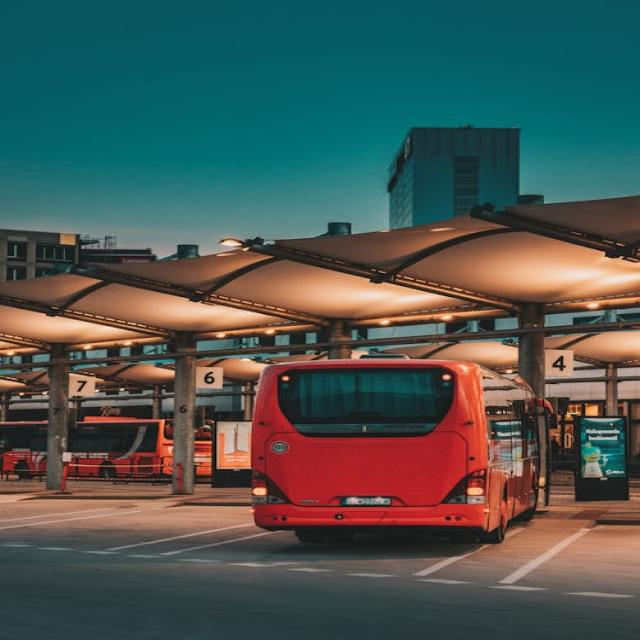bus: (252, 352, 550, 546), (0, 413, 210, 479)
